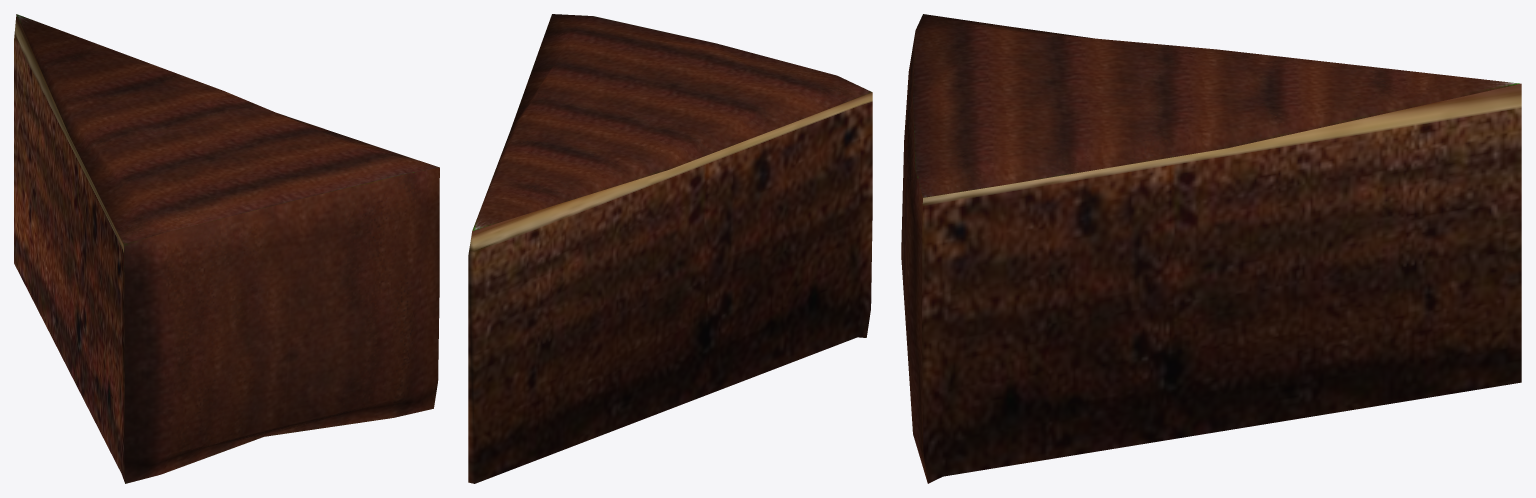
Rendered from Cake2.FBX.
3 views of the same model, side by side, from view 1: azimuth 30°, elevation 25°; view 2: azimuth 150°, elevation 25°; view 3: azimuth 270°, elevation 25° (orthographic). The views are drawn at different scales.
Visible parts, largest first — view 1: Prism001; view 2: Prism001; view 3: Prism001.
Boxes of the visible parts, left/top/right/bottom form: Prism001: left=14, top=14, right=439, bottom=483; Prism001: left=468, top=14, right=872, bottom=483; Prism001: left=901, top=14, right=1521, bottom=483.
Bounding box in the file's own units: 86.79 × 66.87 × 124.
1 material, 1 textured.
